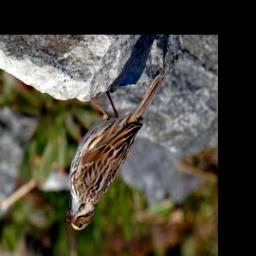Sparrow: (63, 70, 165, 232)
